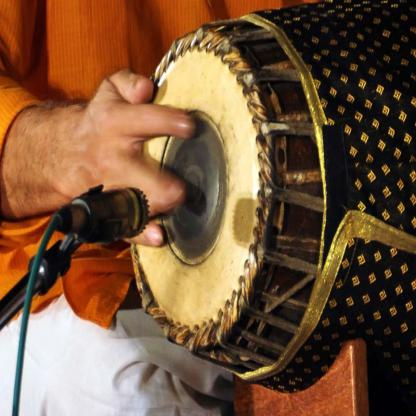Mridangam: (124, 1, 416, 398)
